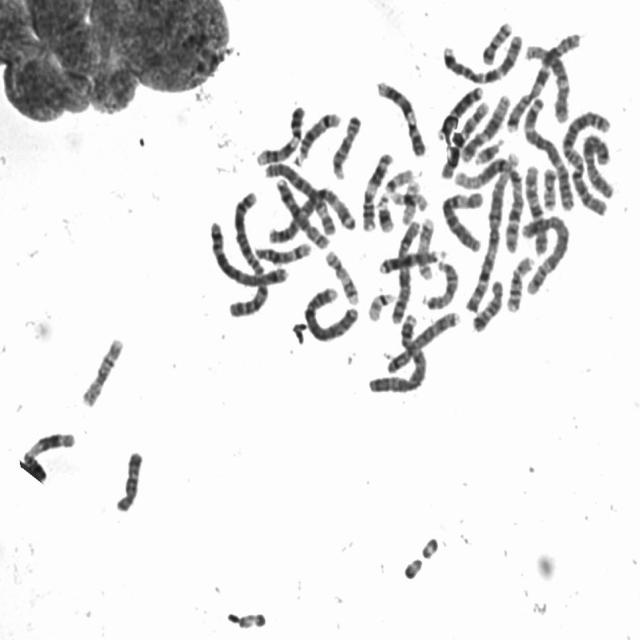A1: (462, 152, 515, 317), (452, 155, 524, 256)
A2: (221, 188, 275, 320), (557, 103, 614, 216)
A3: (520, 91, 576, 212), (264, 180, 356, 246)
B4: (363, 308, 430, 396), (300, 280, 360, 344)
B5: (205, 214, 290, 288), (519, 209, 571, 296)
C10: (521, 38, 572, 124), (519, 158, 550, 256)
C11: (439, 100, 494, 186), (358, 146, 396, 233)
C12: (457, 88, 512, 164), (18, 426, 77, 470)
C6: (260, 156, 338, 240), (436, 184, 486, 253)
C7: (502, 26, 582, 133), (438, 28, 525, 86)
C8: (381, 304, 462, 375), (270, 172, 332, 250)
C9: (371, 74, 427, 158), (252, 99, 307, 167)
D13: (433, 80, 486, 142), (374, 242, 448, 276)
D14: (290, 105, 342, 167), (250, 236, 313, 265)
D15: (327, 109, 364, 180), (419, 254, 461, 311)
E16: (76, 331, 126, 408), (502, 250, 538, 313)
E17: (320, 244, 360, 306), (414, 212, 436, 281)
E18: (110, 444, 144, 514), (468, 275, 506, 333)
F19: (385, 184, 429, 216), (397, 175, 421, 226)
F20: (478, 15, 514, 66), (538, 161, 558, 211)
G21: (372, 188, 397, 234), (472, 132, 506, 165)
G22: (363, 286, 396, 323), (382, 163, 414, 193)
X: (388, 214, 422, 325), (578, 128, 616, 201)
